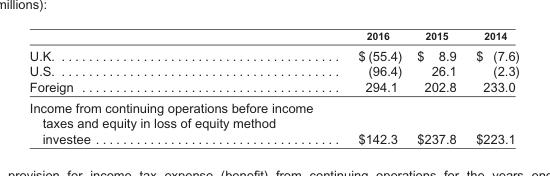table: (28, 29, 518, 145)
table column: (28, 29, 334, 145), (334, 29, 408, 145), (408, 29, 465, 145), (465, 29, 518, 145)
table column header: (28, 29, 518, 44)
table row: (28, 96, 518, 145), (28, 44, 518, 63), (28, 78, 518, 96), (28, 29, 518, 44), (28, 63, 518, 78)
